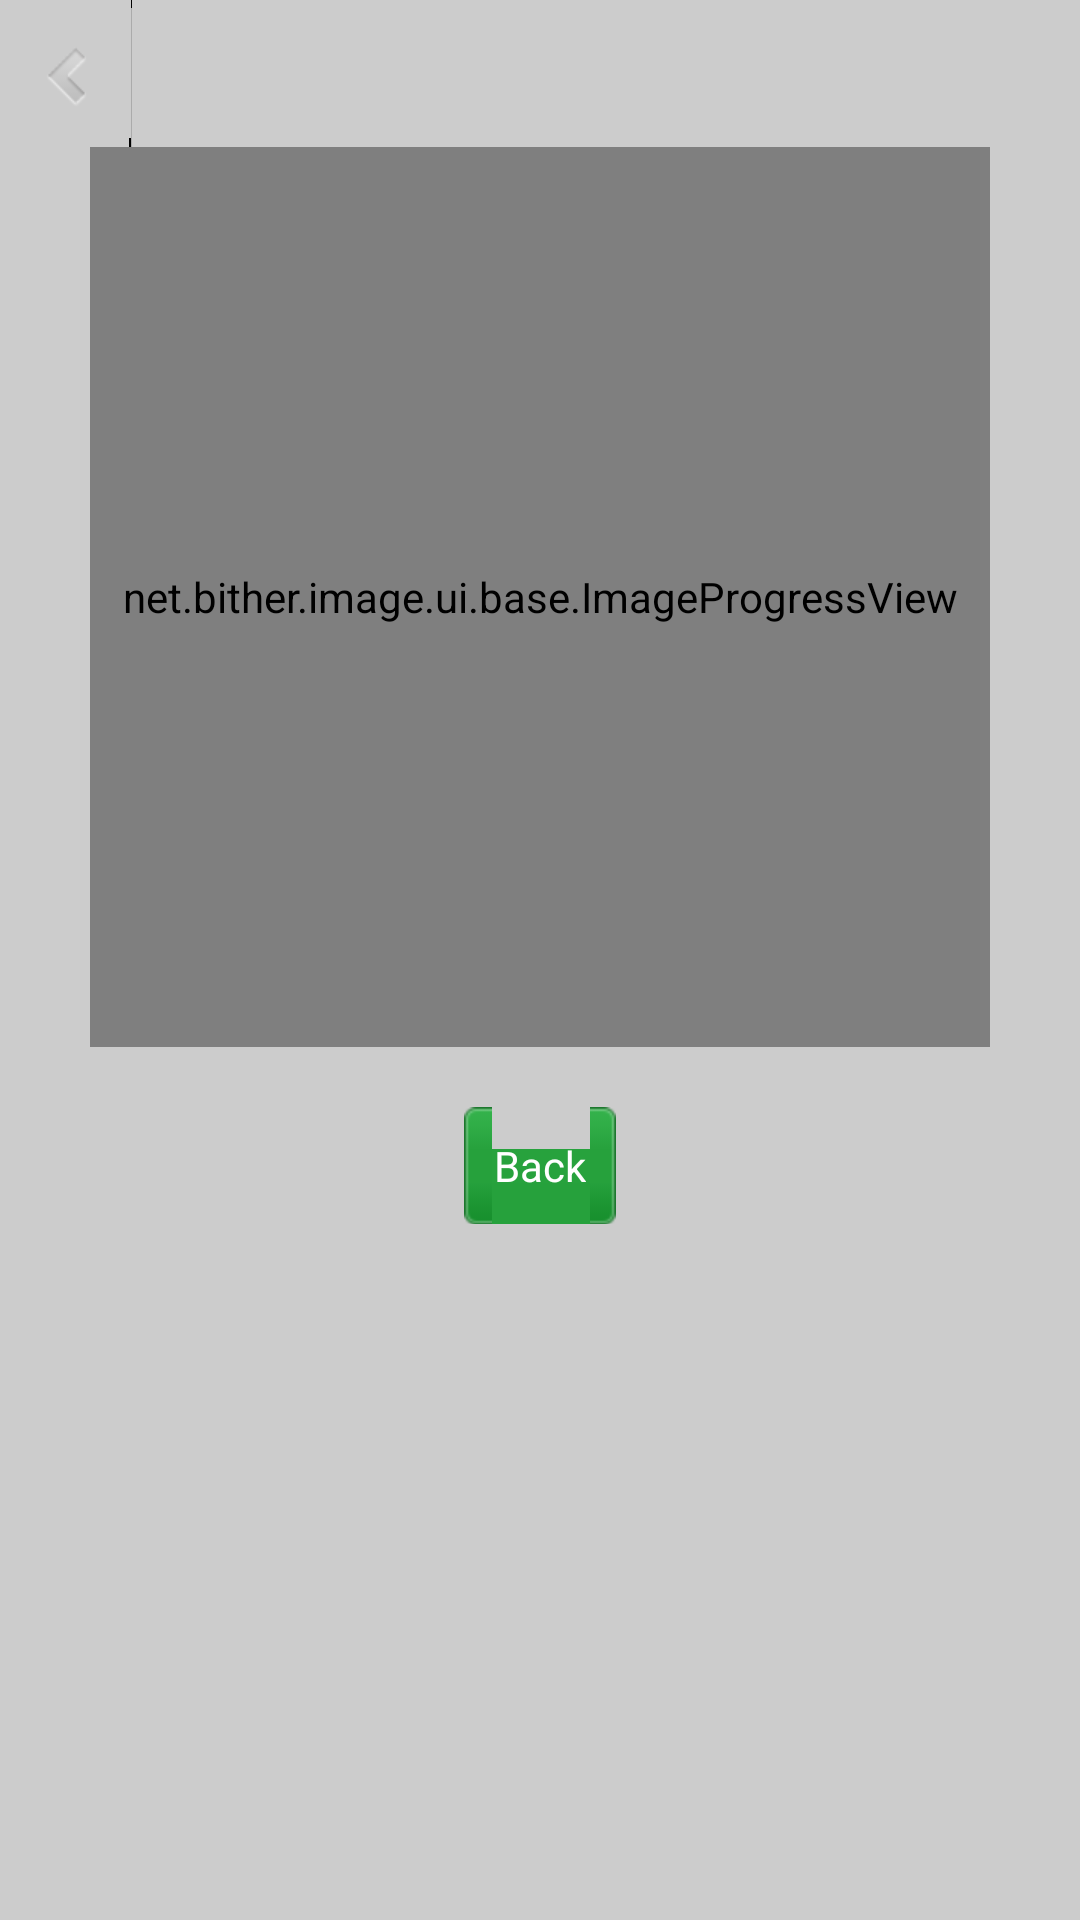

Icons on this 1080 × 1920 Android screen, each with its box as {"x1": x1, "y1": y1, "x2": x2, "y2": y2}:
title bar back: {"x1": 50, "y1": 61, "x2": 84, "y2": 94}
